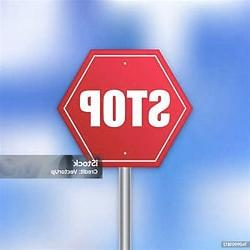Stop: (65, 50, 188, 165)
